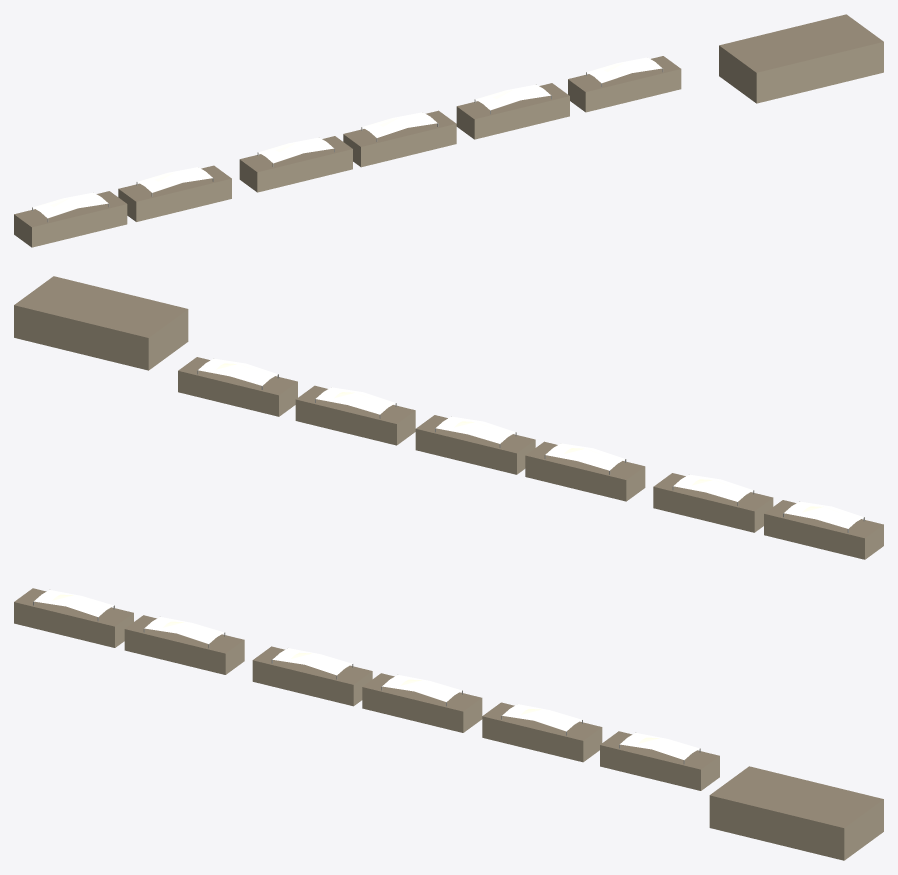
File: paddock.glb
The picture shows the model from 3 angles, top to bottom: view 1: azimuth 30°, elevation 25°; view 2: azimuth 150°, elevation 25°; view 3: azimuth 330°, elevation 25°; orthographic projection. The views are drawn at different scales.
Parts seen in each view (by area): view 1: chunk_0_0; view 2: chunk_0_0; view 3: chunk_0_0.
Part boxes in pixels (left/top/right/bottom): chunk_0_0: left=14, top=14, right=883, bottom=247; chunk_0_0: left=14, top=276, right=883, bottom=559; chunk_0_0: left=14, top=588, right=883, bottom=860.
Size of the model in its own units: 375 by 14 by 40.9.
